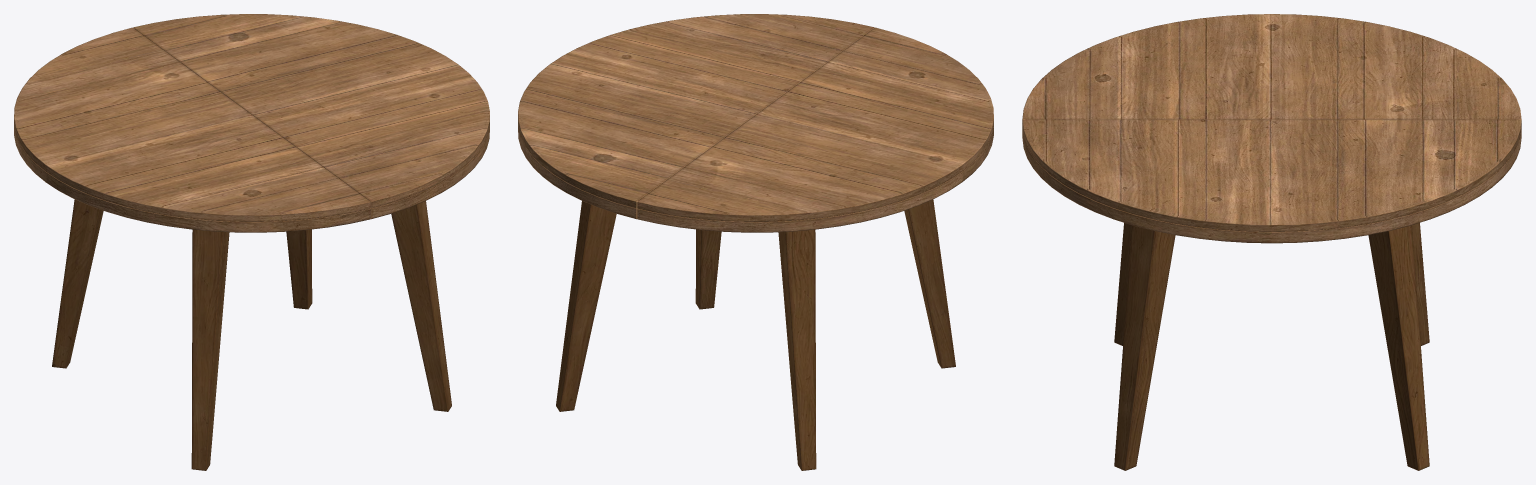
File: abo-B07B87J7L3.glb
3 renders of one model, left to right at view 1: azimuth 30°, elevation 25°; view 2: azimuth 150°, elevation 25°; view 3: azimuth 270°, elevation 25°, orthographic. The views are drawn at different scales.
Bounding box in the file's own units: 1.21 × 0.764 × 1.21.
Materials: 1 (1 with a texture image).
